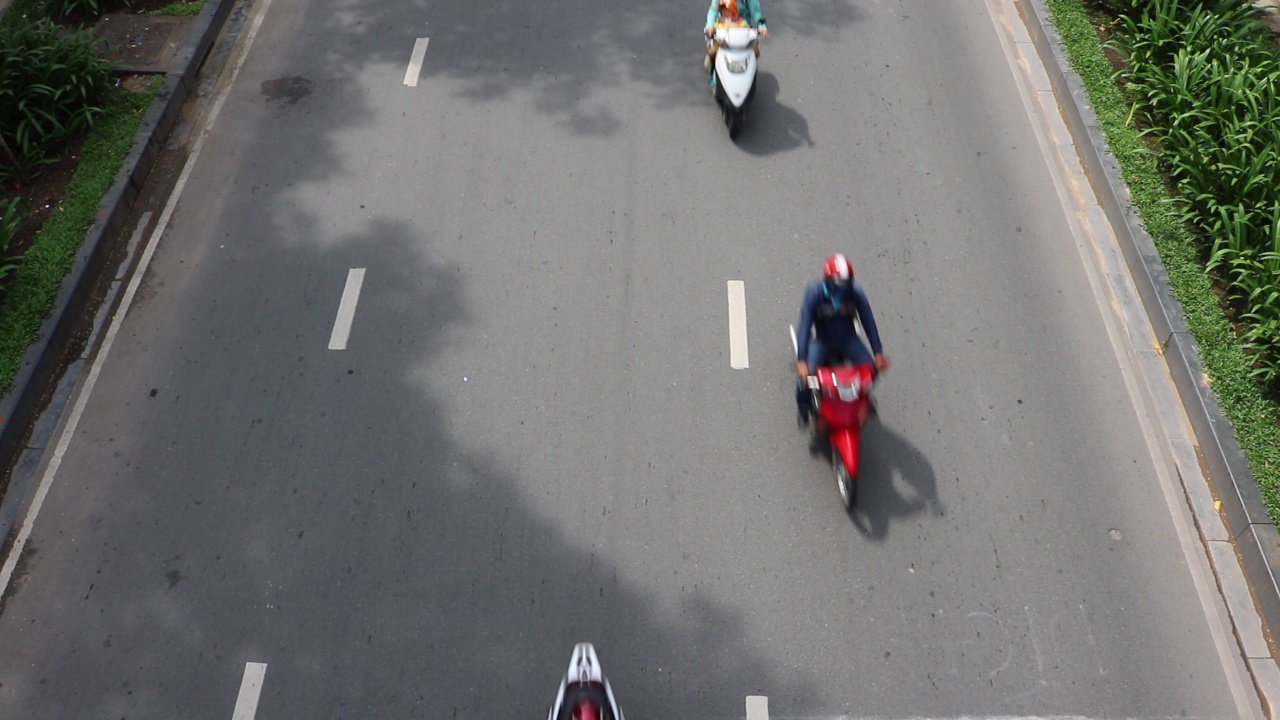motorcycle: (789, 358, 890, 514), (703, 21, 765, 139)
